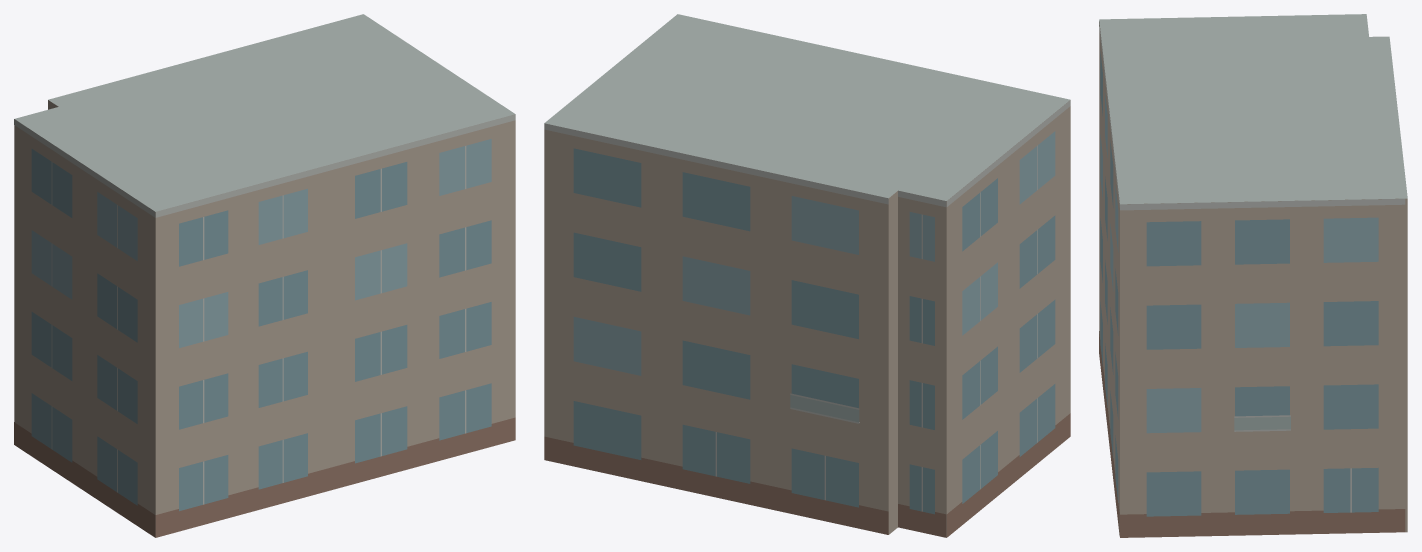
File: survey-upis-33046339.glb
3 renders of one model, left to right at view 1: azimuth 30°, elevation 25°; view 2: azimuth 150°, elevation 25°; view 3: azimuth 270°, elevation 25°, orthographic. The views are drawn at different scales.
Parts seen in each view (by area): view 1: survey-upis-33046339.tmp; view 2: survey-upis-33046339.tmp; view 3: survey-upis-33046339.tmp.
Part boxes in pixels (box(x1,y1,x2,y2)): survey-upis-33046339.tmp: box(14, 14, 515, 537); survey-upis-33046339.tmp: box(544, 14, 1070, 537); survey-upis-33046339.tmp: box(1099, 14, 1407, 537).
Size of the model in its own units: 16.15 by 13.2 by 11.08.
